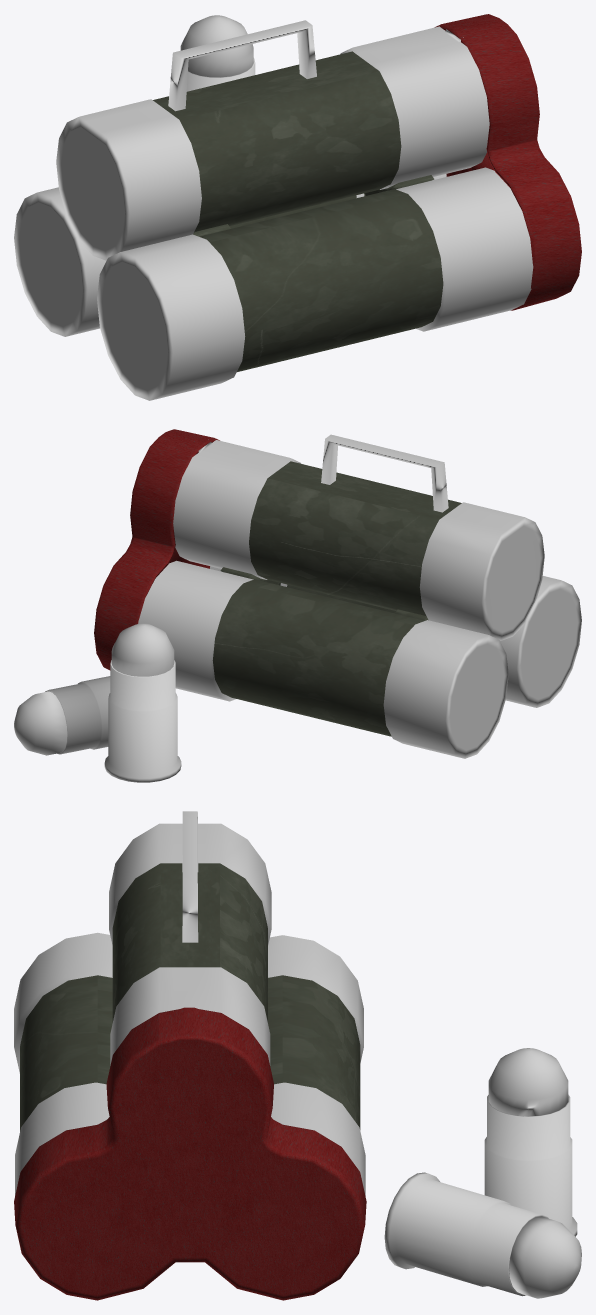
File: ShotgunAmmoBox.fbx
3 renders of one model, top to bottom at view 1: azimuth 30°, elevation 25°; view 2: azimuth 150°, elevation 25°; view 3: azimuth 270°, elevation 25°, orthographic. The views are drawn at different scales.
Visible parts, largest first — view 1: container, cap, grenade shells; view 2: container, grenade shells, cap; view 3: cap, container, grenade shells.
Part boxes in pixels (x1,y1,x2,y2): container: (14,20,533,400); cap: (434,14,581,310); grenade shells: (180,15,255,91); container: (138,434,581,758); grenade shells: (14,623,181,782); cap: (94,429,219,670); cap: (14,1007,366,1300); container: (14,811,365,1195); grenade shells: (384,1048,581,1298).
Bounding box in the file's own units: 258 × 177 × 276.
